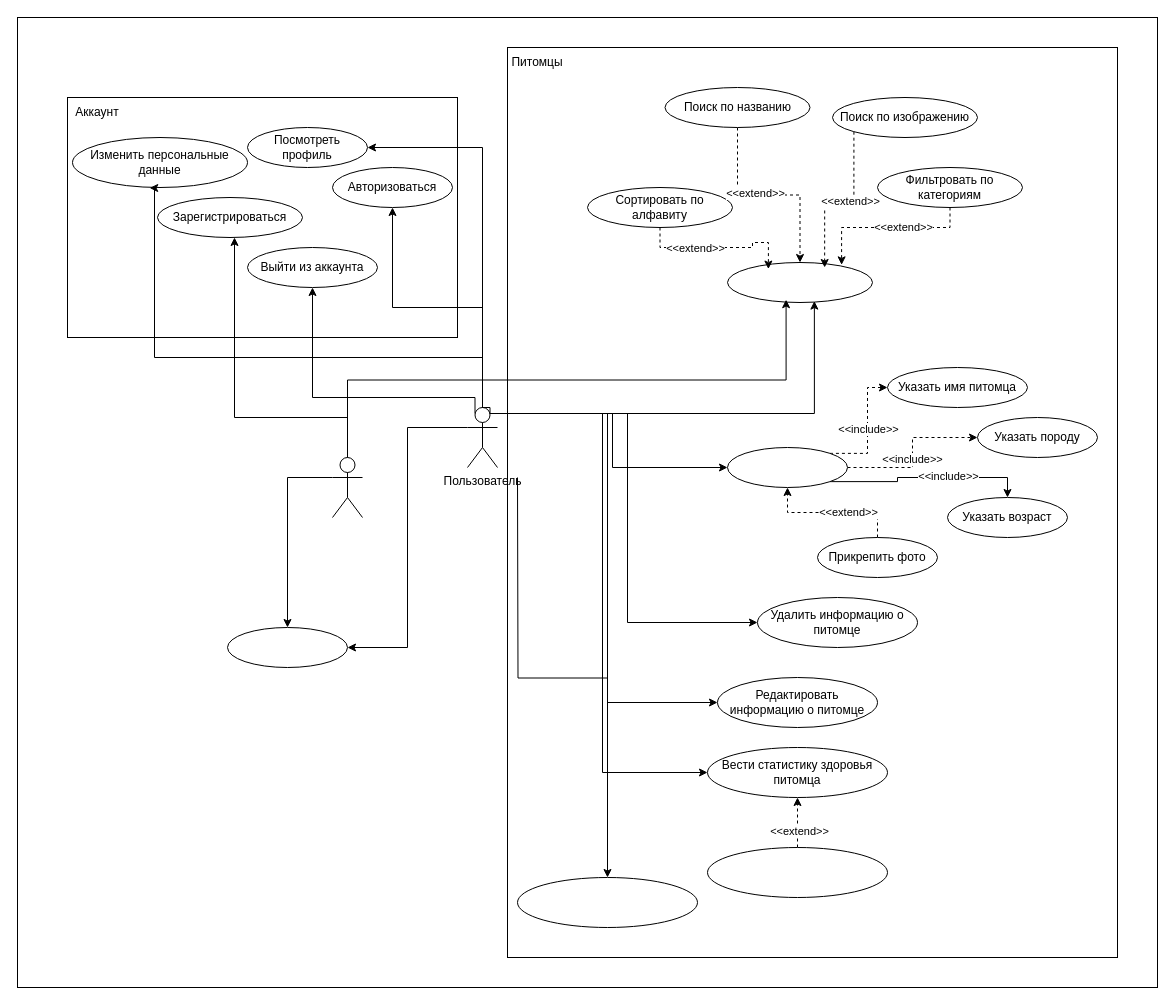
Some shapes in this 1175 by 1005 pixel diagram are drawn without their labels. The centre of each missing label's shape, as x and y in pixels:
Выйти: the point at 287,647
Гость: the point at 347,487
Добавить питомца: the point at 787,467
Посмотреть всех животных: the point at 799,282
Посмотреть профиль питомца: the point at 607,902
Просматривать рекомендации: the point at 797,872
